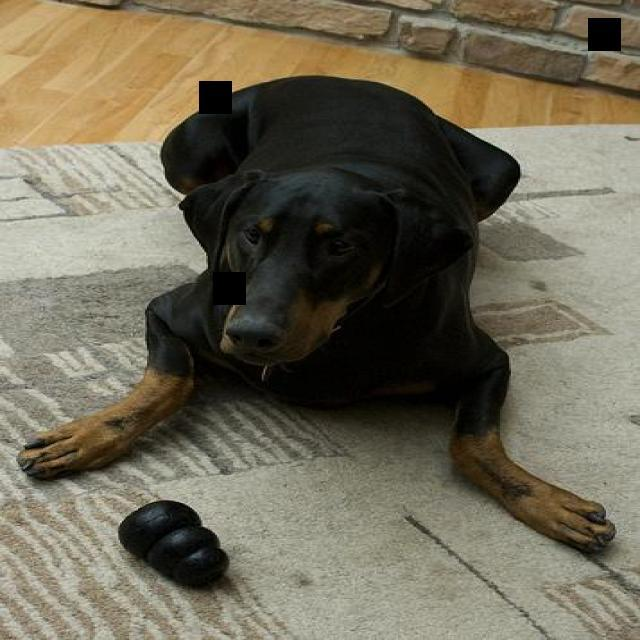adult_dog: (7, 61, 622, 559)
